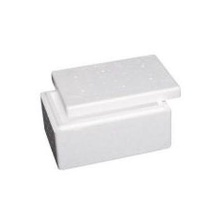foam_box: (33, 46, 187, 174)
